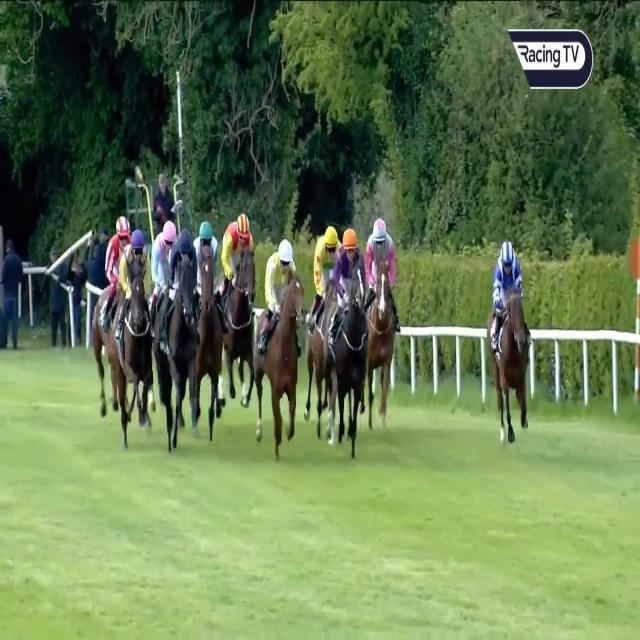horses-racing: (472, 223, 536, 451), (218, 210, 260, 434), (165, 227, 206, 446), (260, 237, 298, 454), (364, 220, 398, 454), (327, 233, 362, 456), (119, 227, 154, 440), (306, 212, 338, 431), (93, 212, 129, 403), (192, 210, 220, 342), (150, 215, 174, 315)
